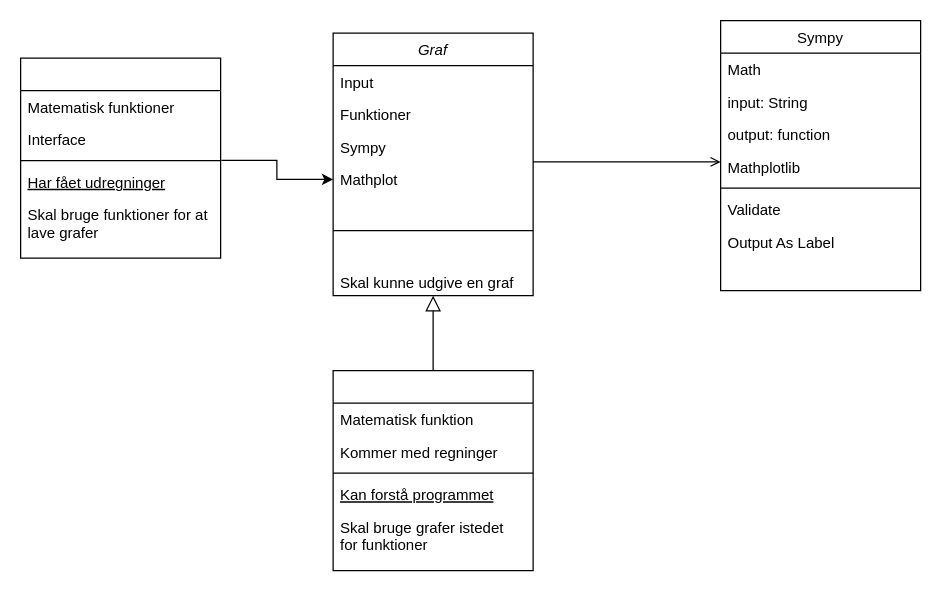
This 941x591 diagram has some shape labels left out. The shapes that lost their labels are listed below. From the top down, each one's box as (x1, y1, x2, y2) in pixels, then its label:
(19, 57, 221, 258): Matplotlib
(332, 369, 533, 571): Bruger
